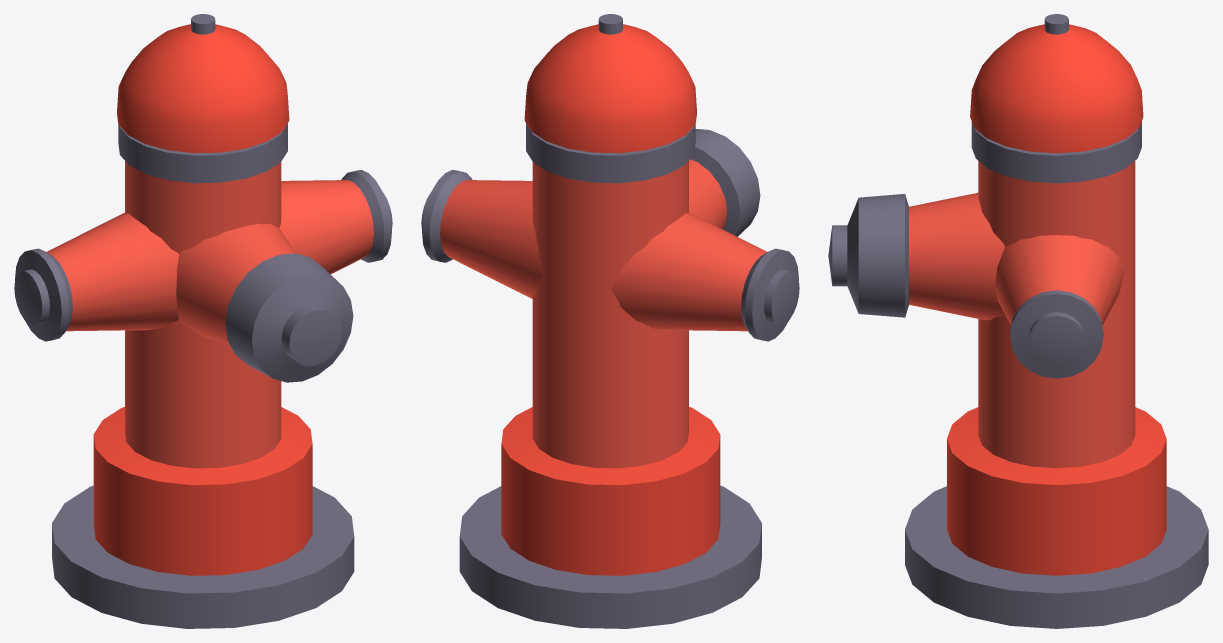
Rendered from Hydrant.fbx.
3 renders of one model, left to right at view 1: azimuth 30°, elevation 25°; view 2: azimuth 150°, elevation 25°; view 3: azimuth 270°, elevation 25°, orthographic.
Parts seen in each view (by area): view 1: Hydrant; view 2: Hydrant; view 3: Hydrant.
Part boxes in pixels (x1=…): Hydrant: x1=14, y1=14, x2=392, y2=628; Hydrant: x1=421, y1=14, x2=799, y2=628; Hydrant: x1=828, y1=14, x2=1208, y2=628.
Bounding box in the file's own units: 0.7652 × 1.12 × 0.7051.
